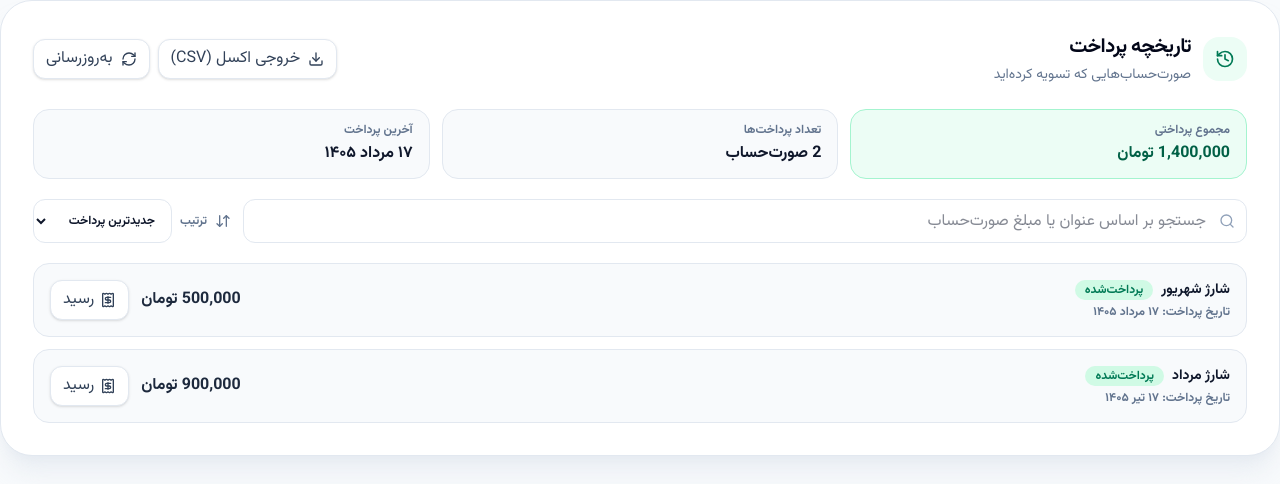
it: PaymentHistoryList › narrows the list to the searched bill and reports how many are shown
Type "مرداد" into the search field named "جستجو در تاریخچه پرداخت" at x=745, y=221, box [243, 199, 1247, 243]
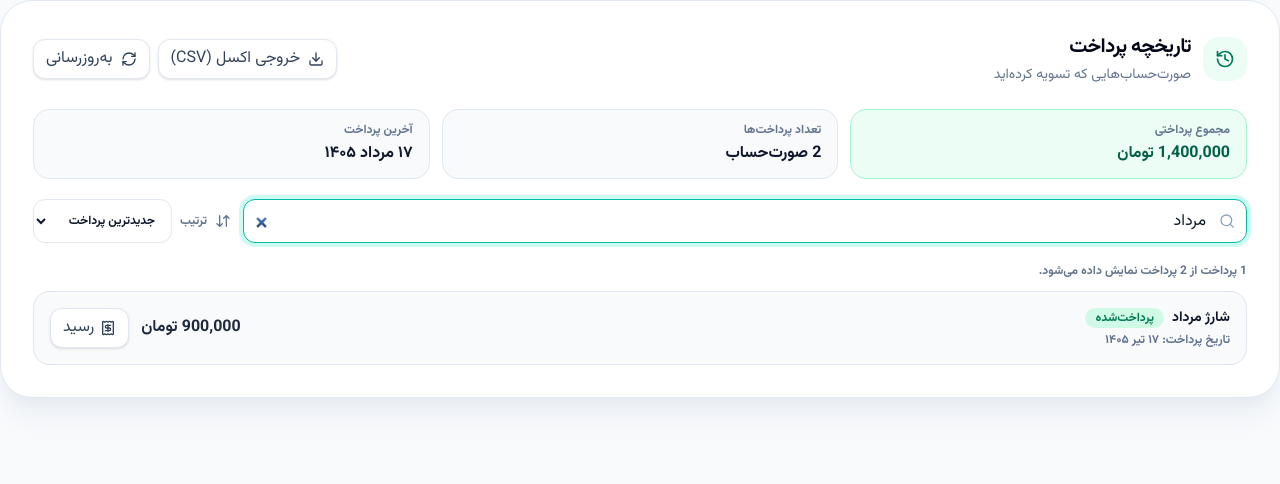
Expected: the text "1 پرداخت از 2 پرداخت نمایش داده می‌شود." is shown, [1039, 262, 1247, 280]
